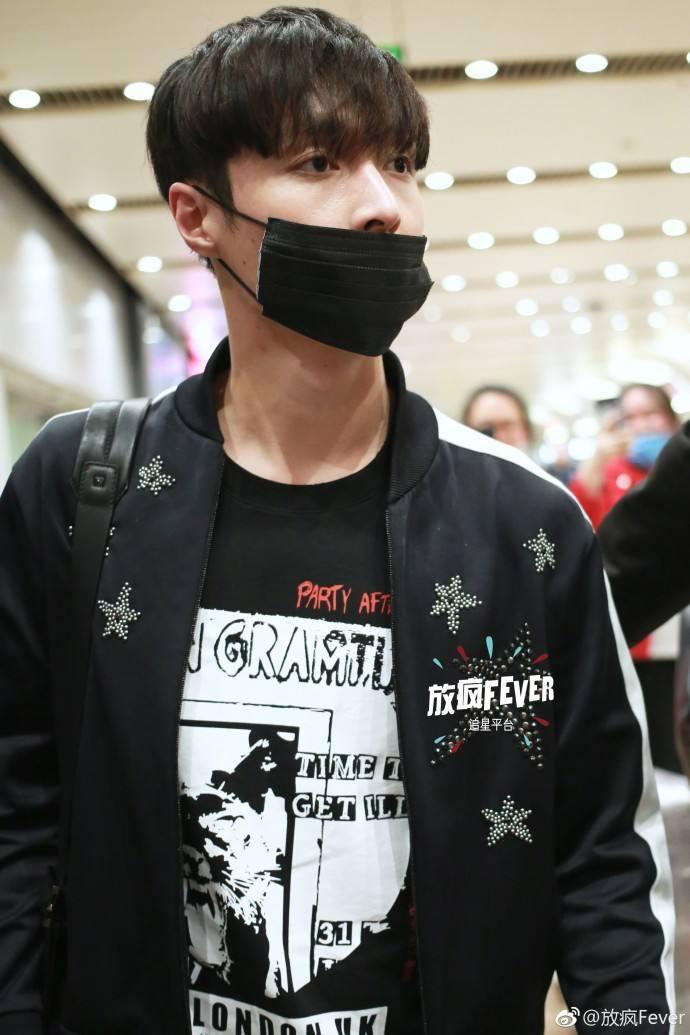WRONG: (236, 91, 431, 350), (621, 400, 672, 465)
